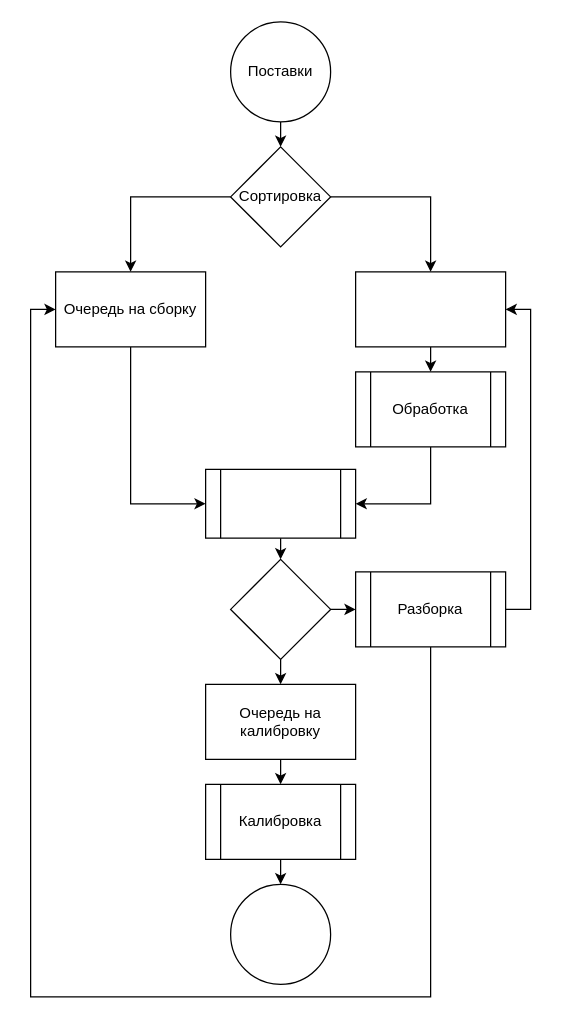
The diagram is 563 pixels wide and 1029 high, and some of its shapes have lost their labels. Each missing label, with the box of its shape:
Выпуск: (229, 883, 331, 984)
Отбраковка: (229, 558, 331, 659)
Очередь на обработку: (354, 271, 506, 347)
Сборка: (204, 468, 356, 538)
